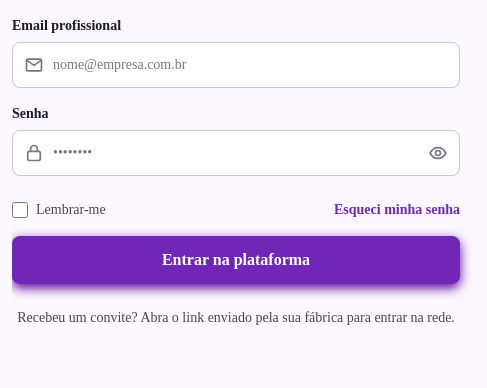
Scenario: LoginForm › keeps the email after a wrong password (VES-77)
This screenshot has width=487, height=388.
In the field labelled "Email profissional": point(236, 65) [12, 42, 460, 88], type "ana@loja.com"
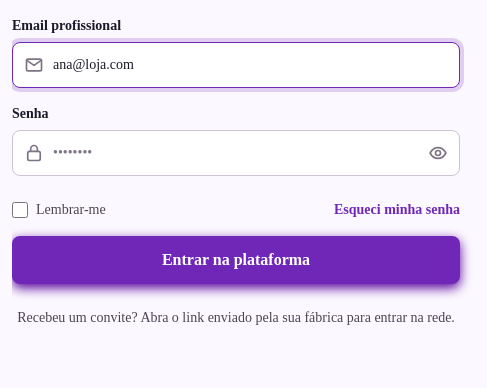
In the password field labelled "Senha": point(236, 153) [12, 130, 460, 176], type "errada"
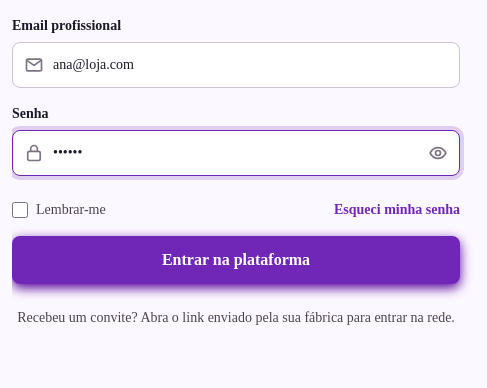
Click the button "Entrar na plataforma": point(236, 260) [12, 236, 460, 284]
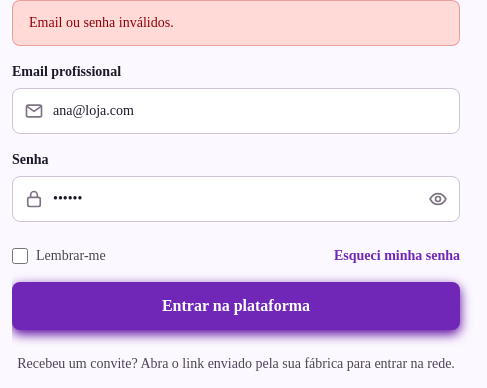
Expected: the message reads "Email ou senha inválidos.", [29, 15, 174, 30]
